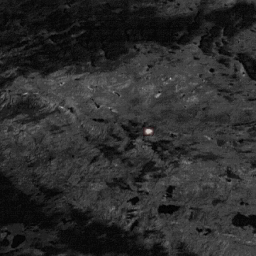Target: (144, 126, 154, 136)
